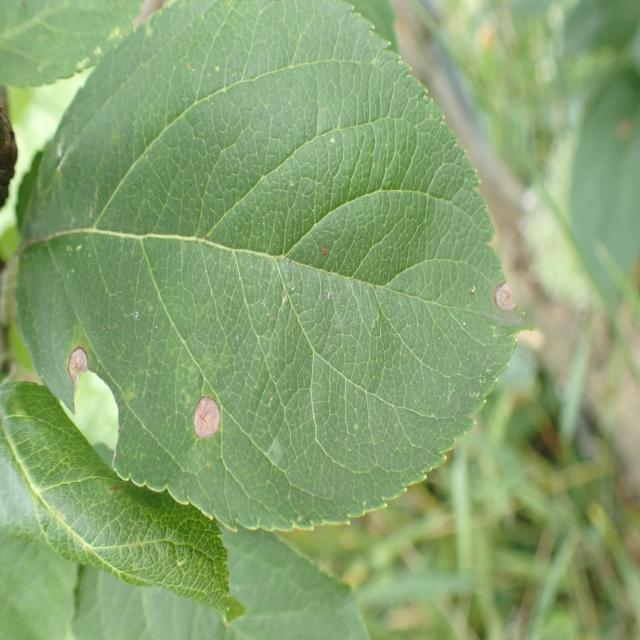Black Rot: (59, 325, 124, 490), (172, 387, 233, 460), (489, 272, 525, 330)
